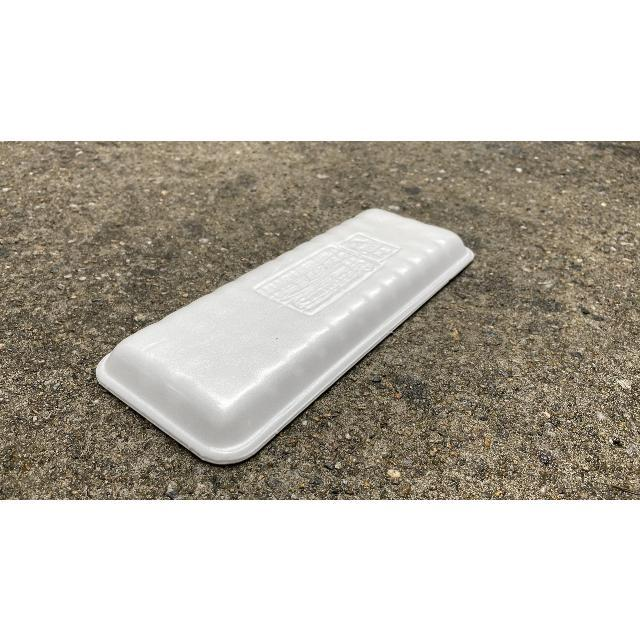Recipiente plastico: (98, 209, 474, 464)
